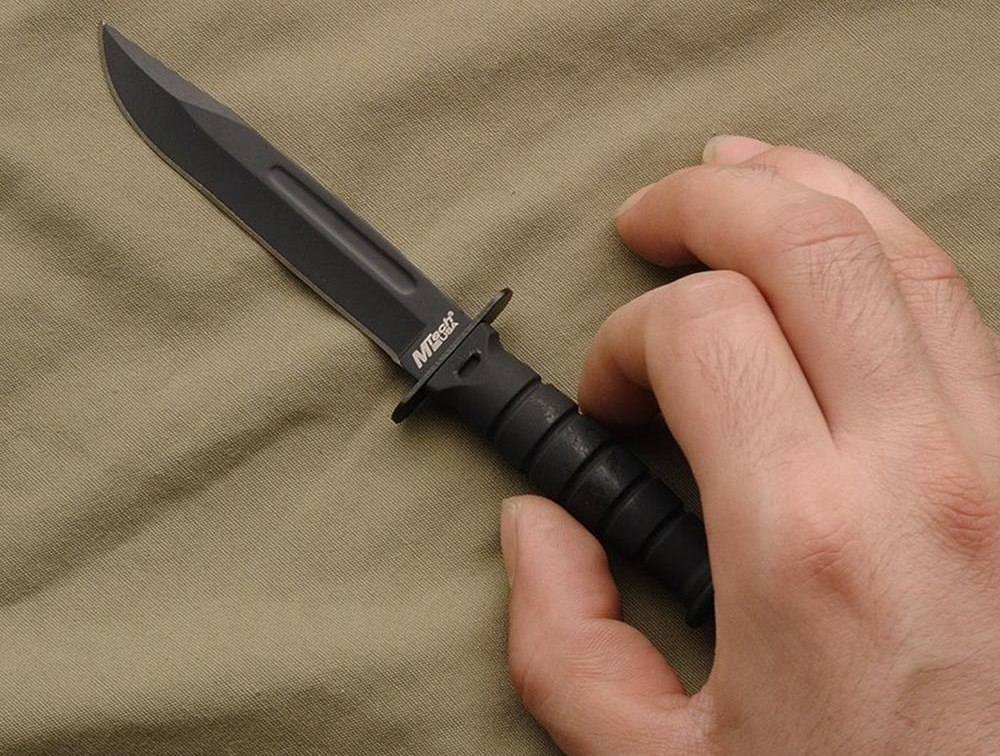knife: (90, 11, 862, 731)
